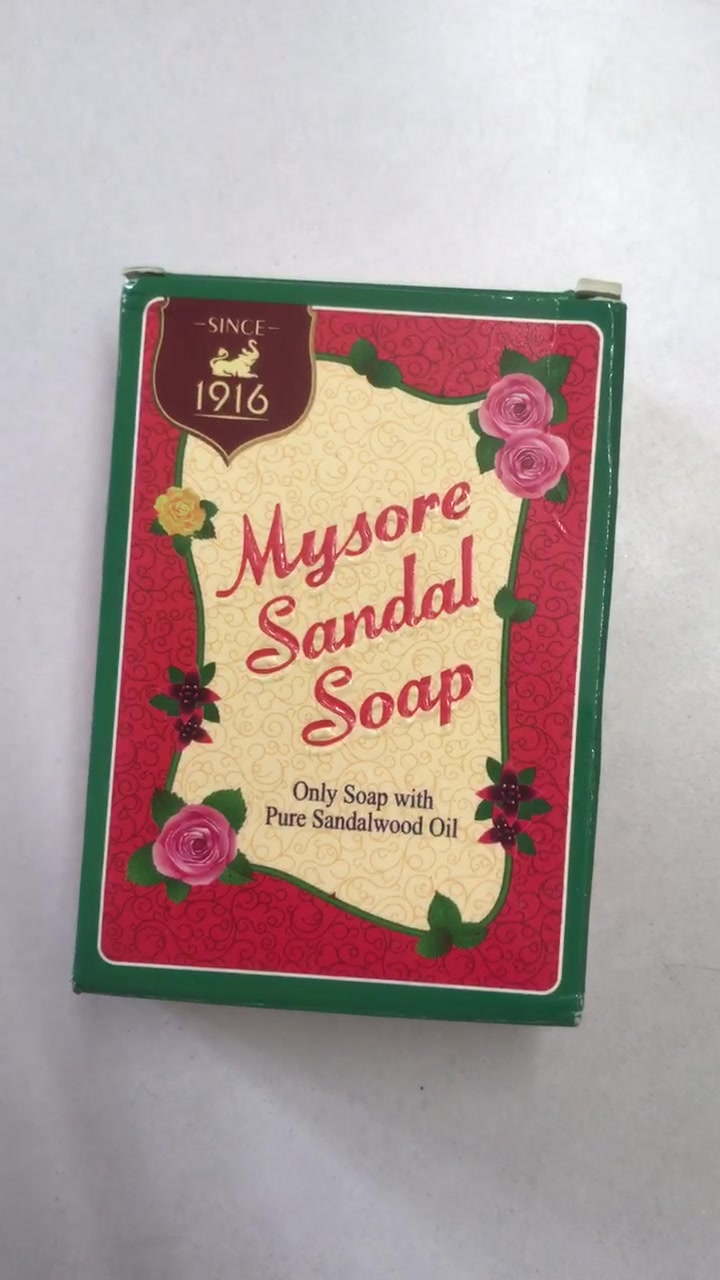mysore sandal soap: (74, 266, 633, 1031)
